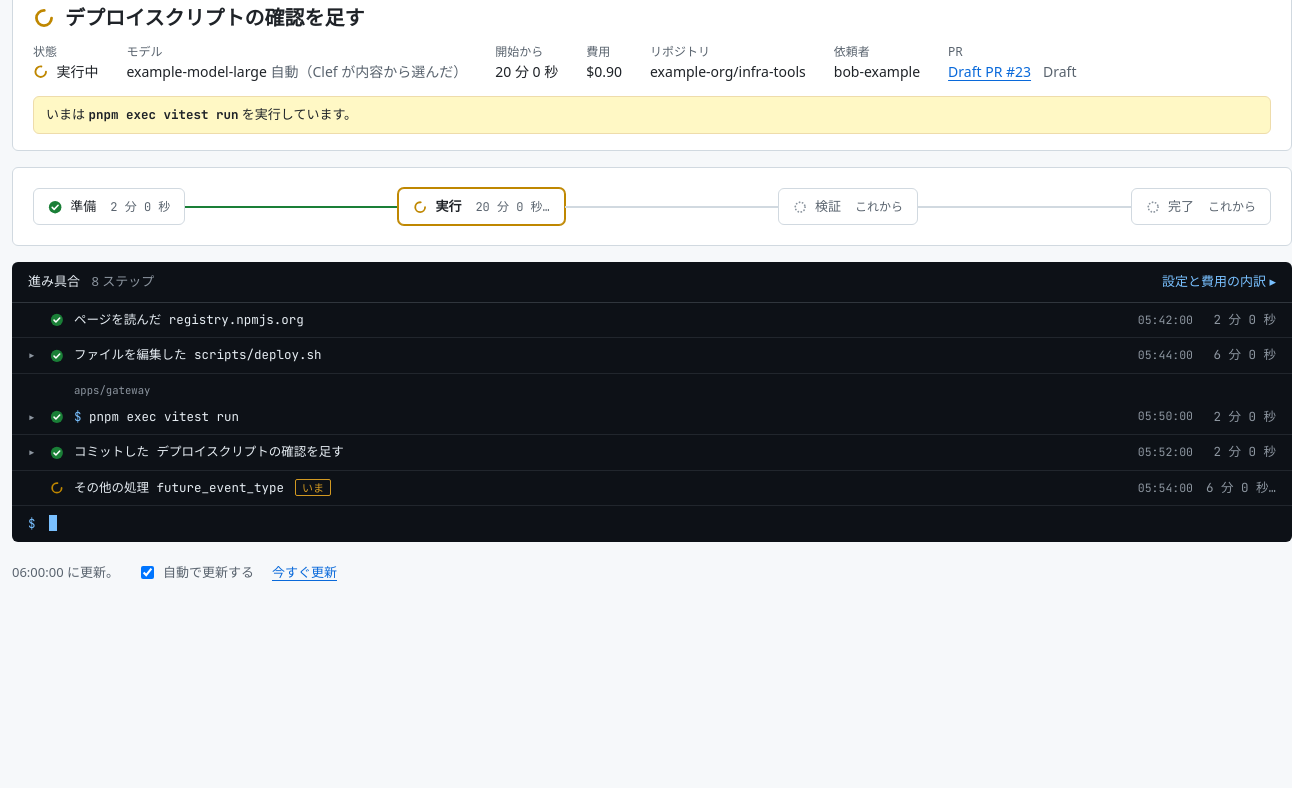
画面（screen） › 開いた行は ▸ をクリックして開閉できる。失敗した行は最初から開いて理由が見える
(page scrolled)
Click the heading "▸ $ pnpm exec vitest run 05:50:00 2 分 0 秒": (129, 415) [28,407,1276,425]
(page scrolled)
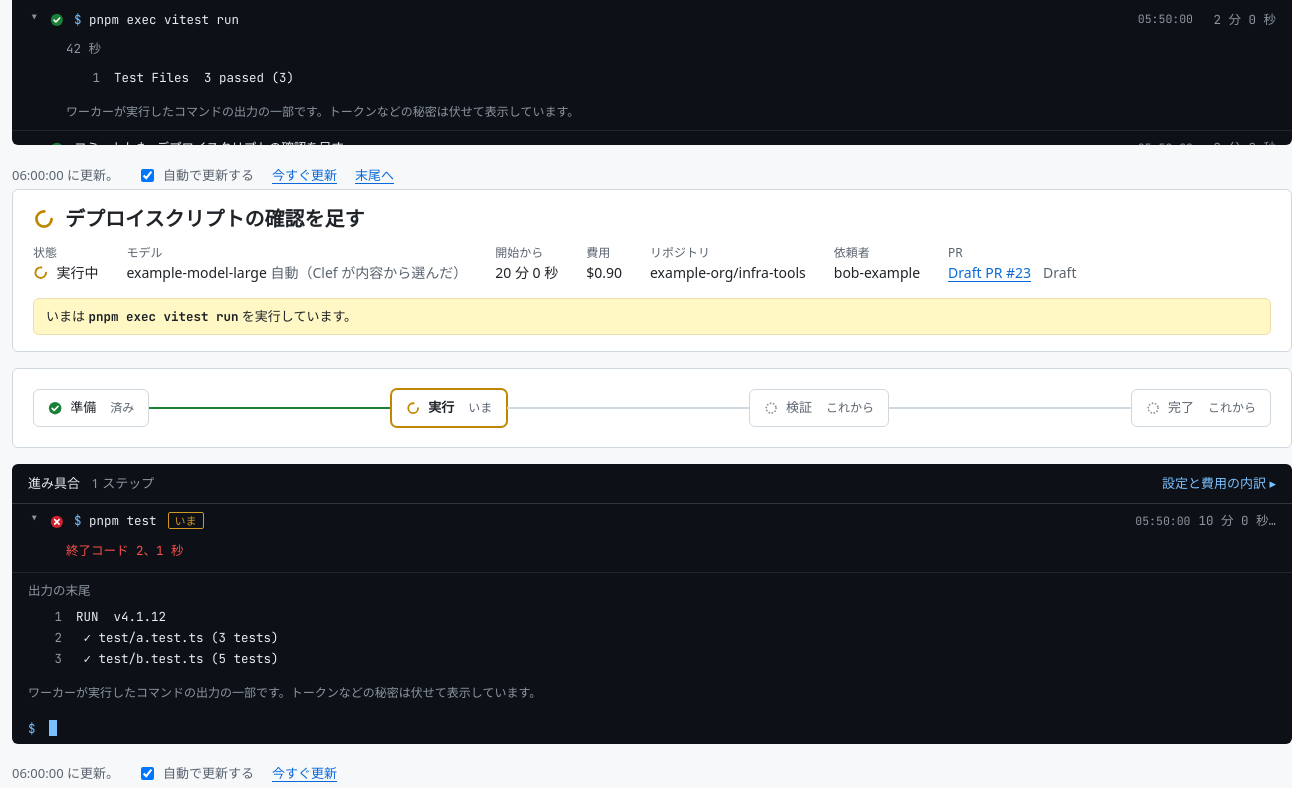
Expected: the text with class "step-detail" reads "終了コード 2、1 秒", [66,542,184,559]
